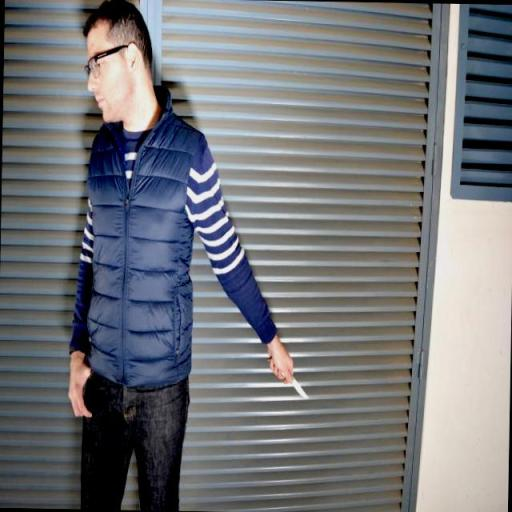knife: (264, 357, 311, 402)
